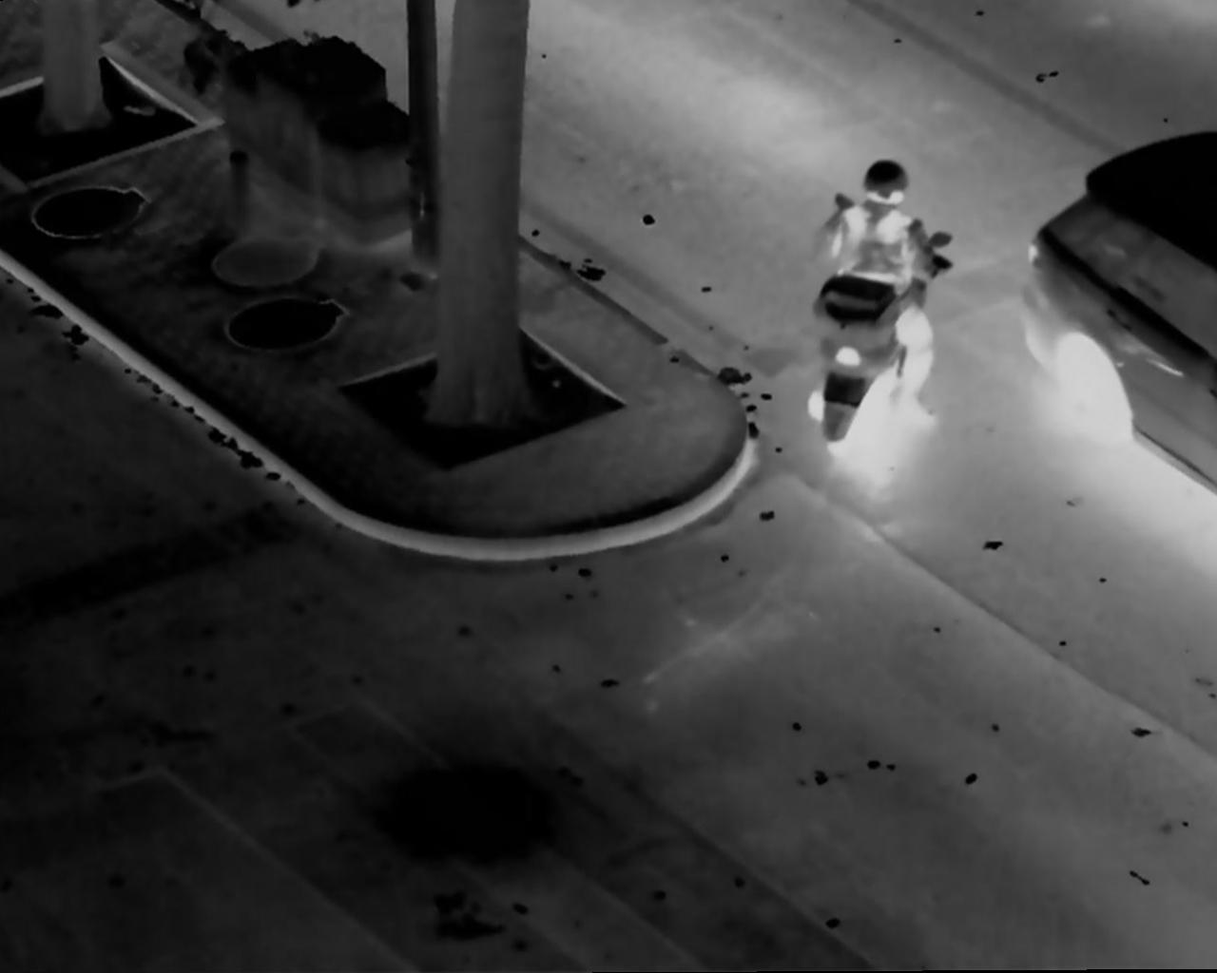person: (814, 159, 938, 435)
